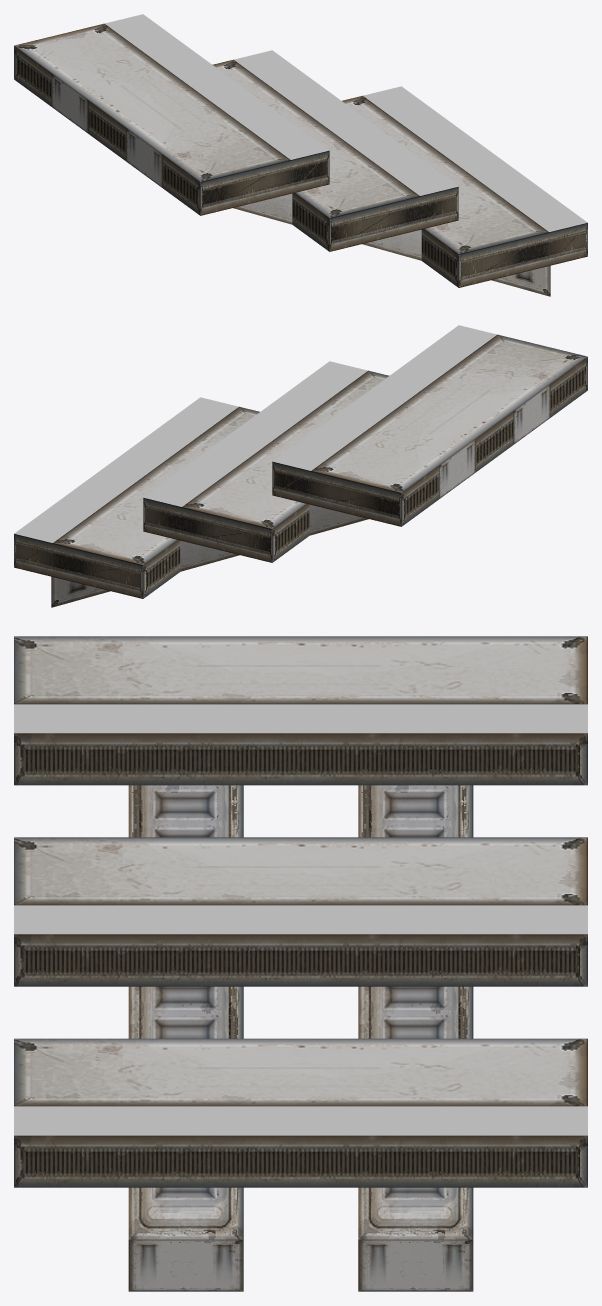
File: scifi_stairs_5.FBX
The picture shows the model from 3 angles, top to bottom: view 1: azimuth 30°, elevation 25°; view 2: azimuth 150°, elevation 25°; view 3: azimuth 270°, elevation 25°; orthographic projection. The views are drawn at different scales.
Parts seen in each view (by area): view 1: Plane125; view 2: Plane125; view 3: Plane125.
Boxes of the visible parts, x1,y1,x2,y2 form: Plane125: (14,14,587,296); Plane125: (14,325,587,607); Plane125: (14,636,587,1291).
Size of the model in its own units: 305 by 178 by 254.
